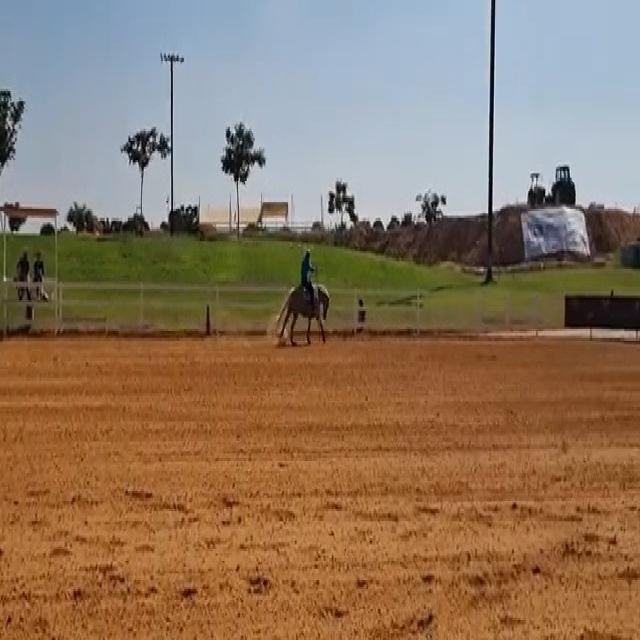horse: (274, 278, 331, 346)
